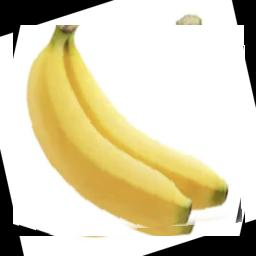Banana Fresh: (14, 25, 246, 236)
